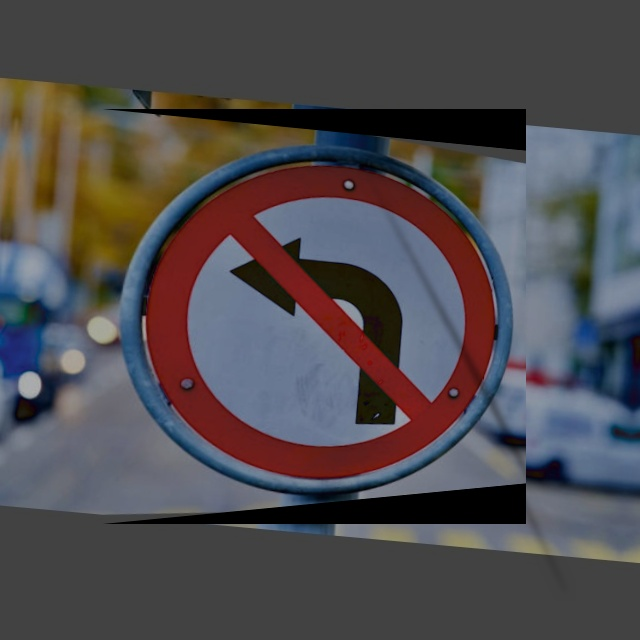Left_Turn_Prohibited: (102, 109, 526, 524)
